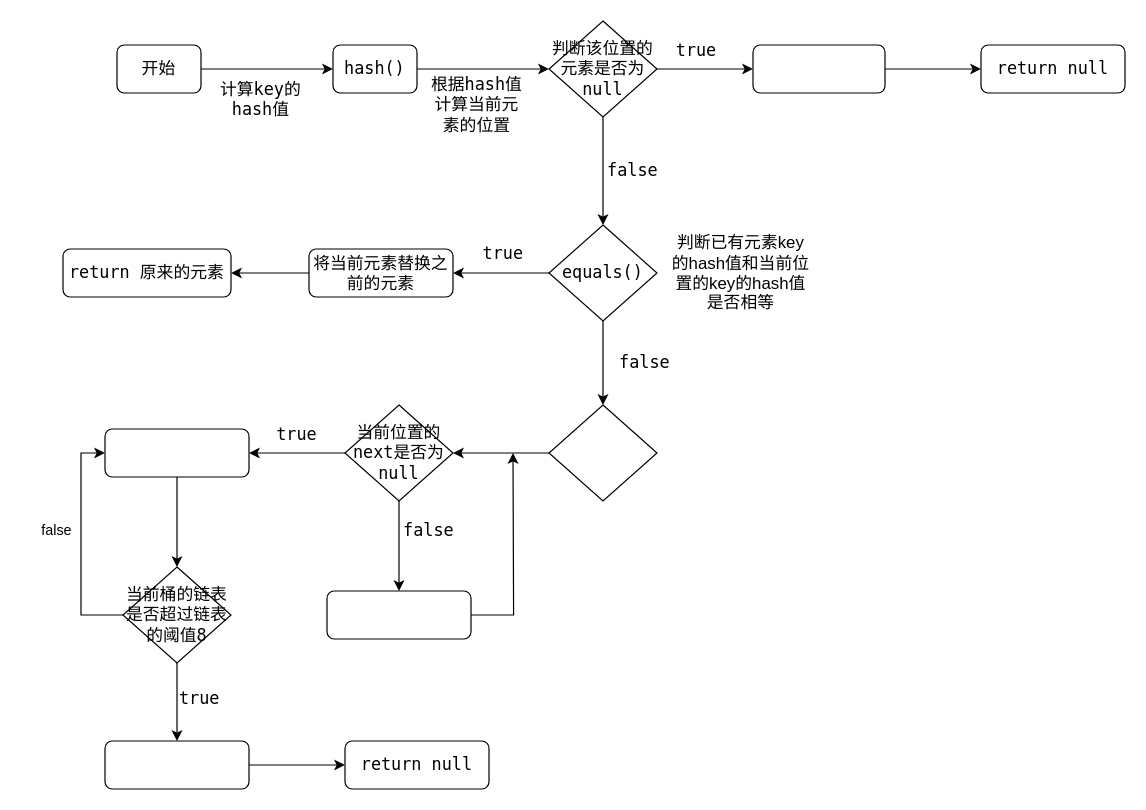
This 1146x810 diagram has some shape labels left out. Here are the shapes that lost their labels. From the top down, the centre of each, then its label:
At point (818, 68): "直接添加到桶里".
At point (176, 452): "在链表的尾部添加当前元素".
At point (602, 452): "是否已经在红黑树存储".
At point (398, 614): "遍历下一个节点".
At point (176, 764): "在红黑树进行存储".
